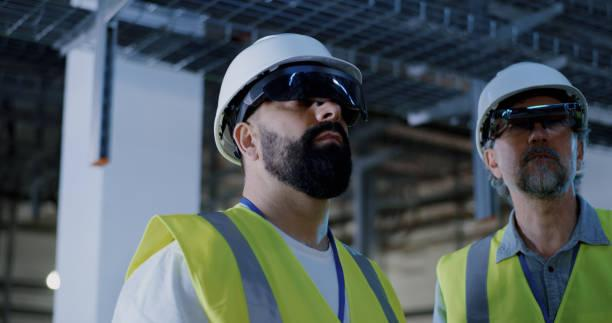goggle: (228, 55, 375, 135), (480, 95, 595, 147)
helmet: (204, 21, 373, 157), (464, 52, 603, 145)
vest: (120, 196, 409, 323), (428, 198, 612, 323)
